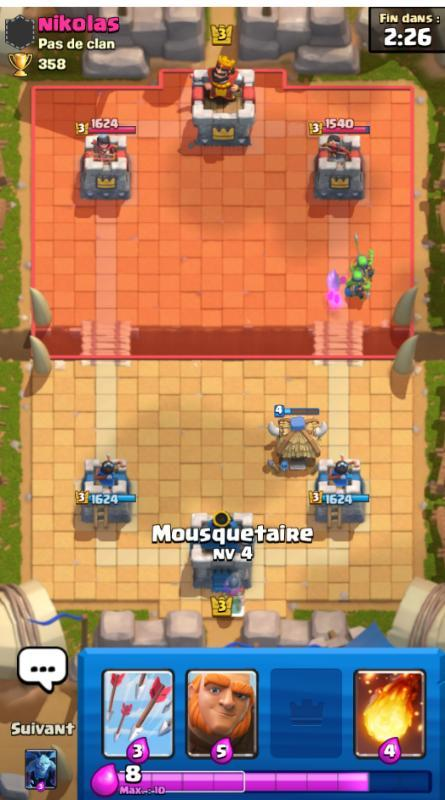player_goblin_hut: (261, 402, 329, 472)
player_spear_goblins: (342, 266, 373, 307), (353, 242, 373, 277)
